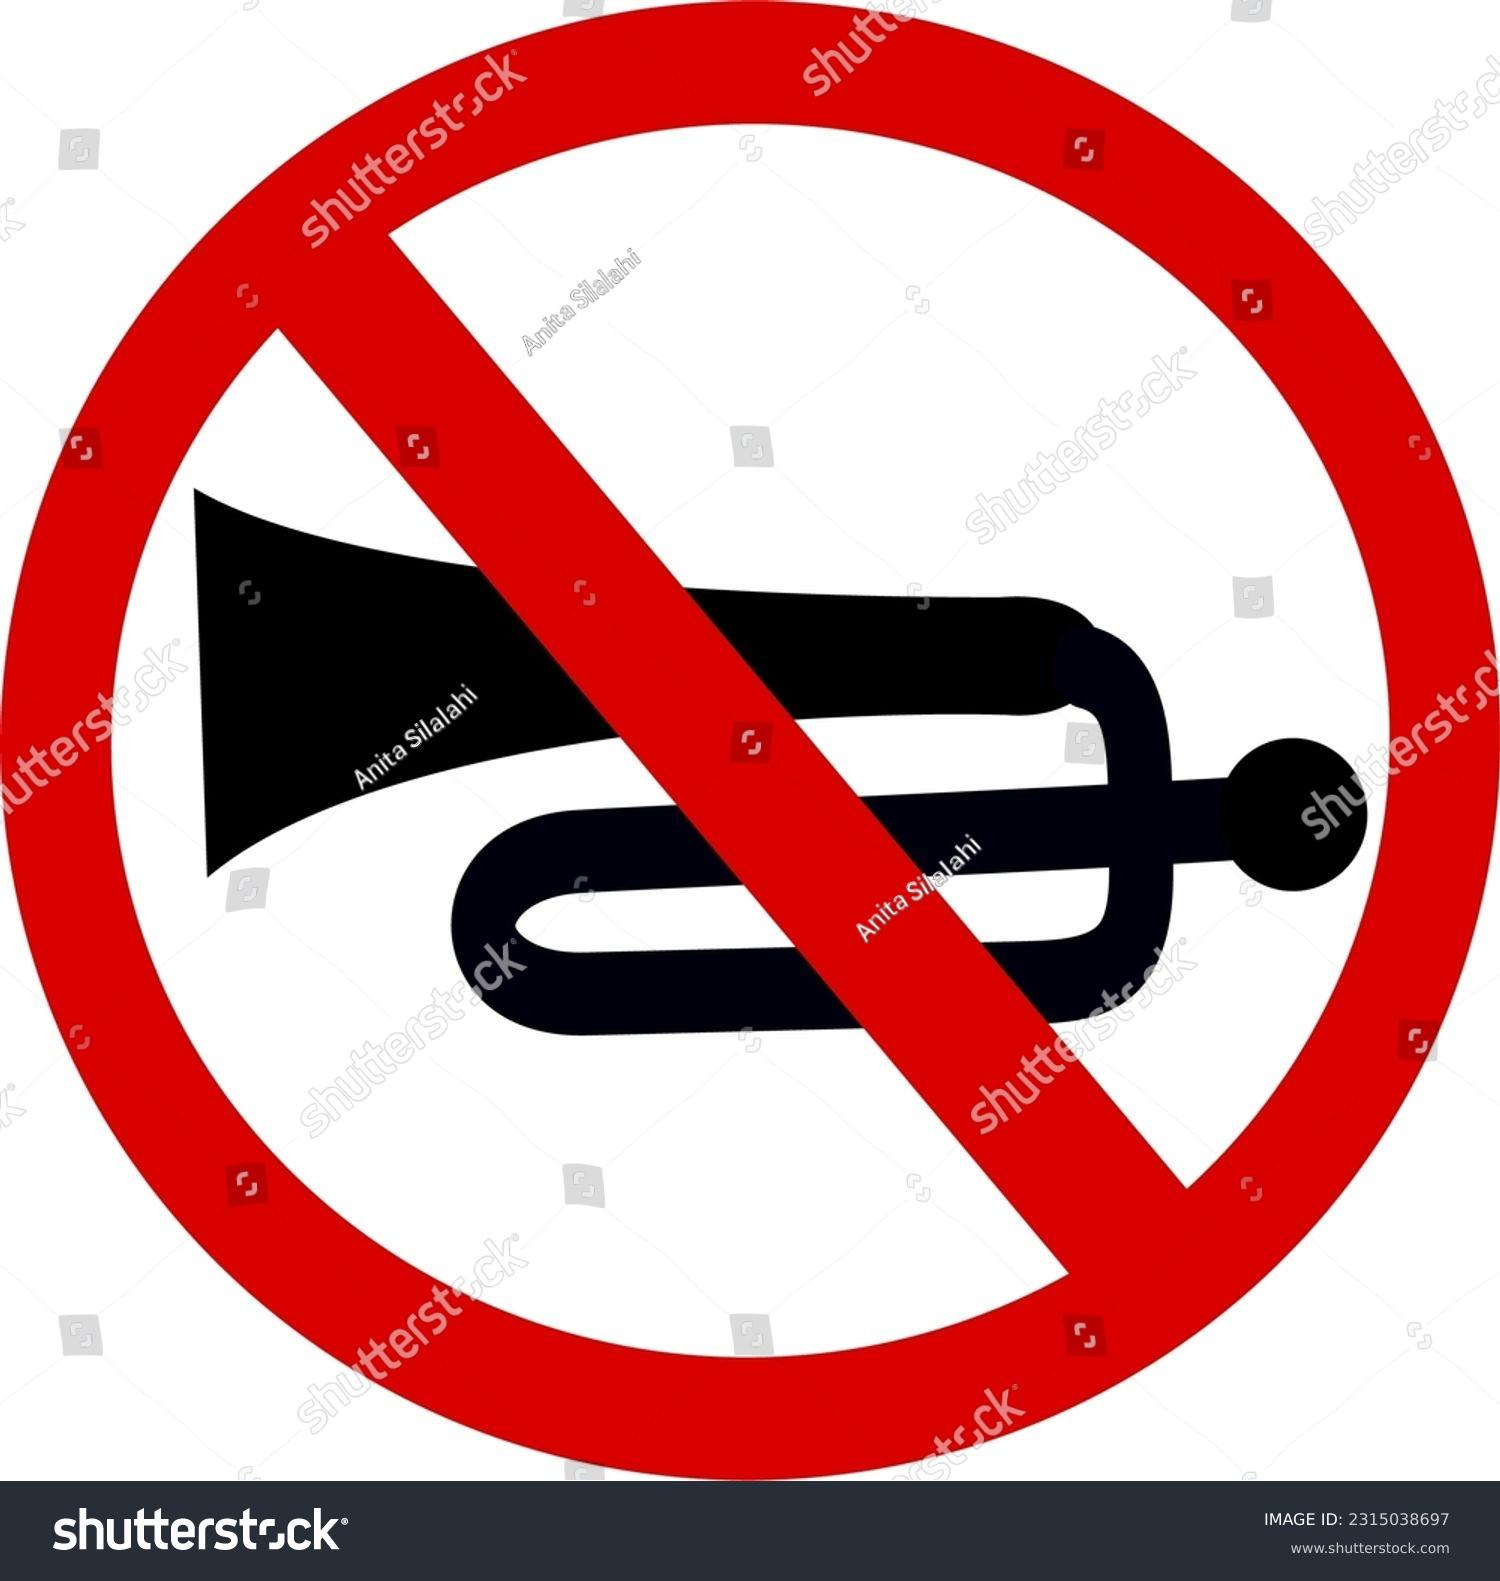Horn Prohibited: (97, 90, 1500, 1424)
